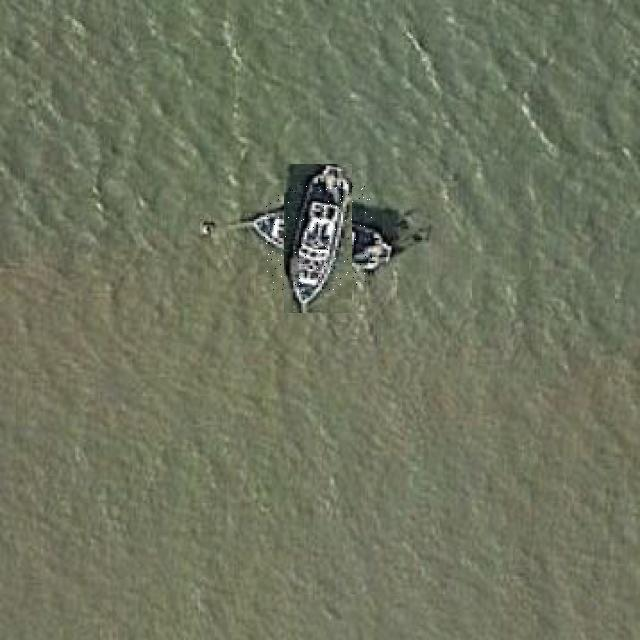boat: (264, 183, 372, 293)
